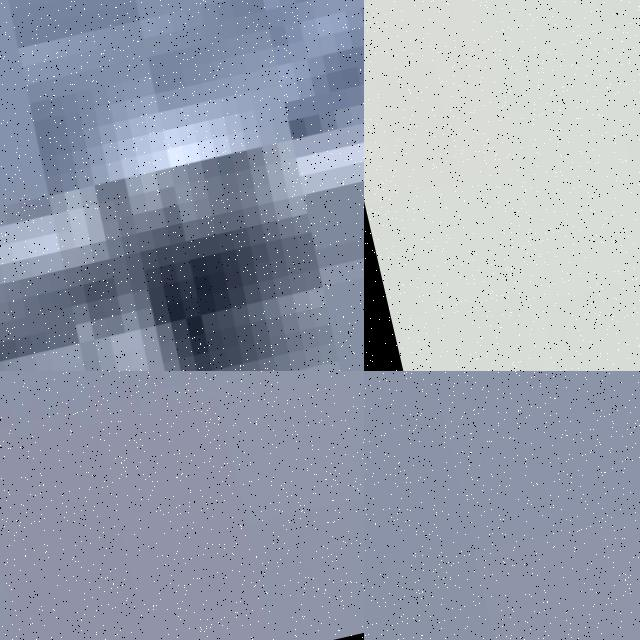drone: (0, 0, 364, 371), (364, 0, 640, 371)
